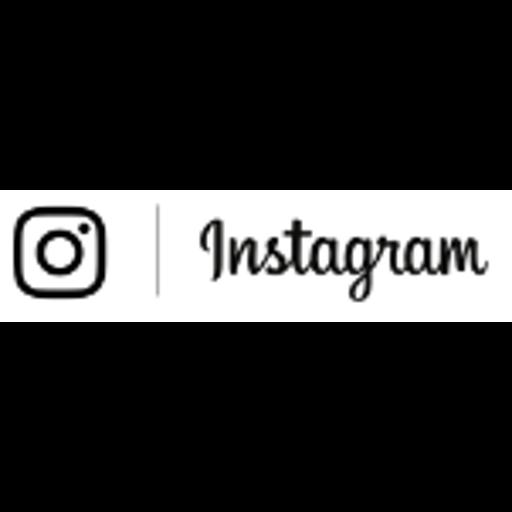Instagram: (0, 190, 512, 322)
